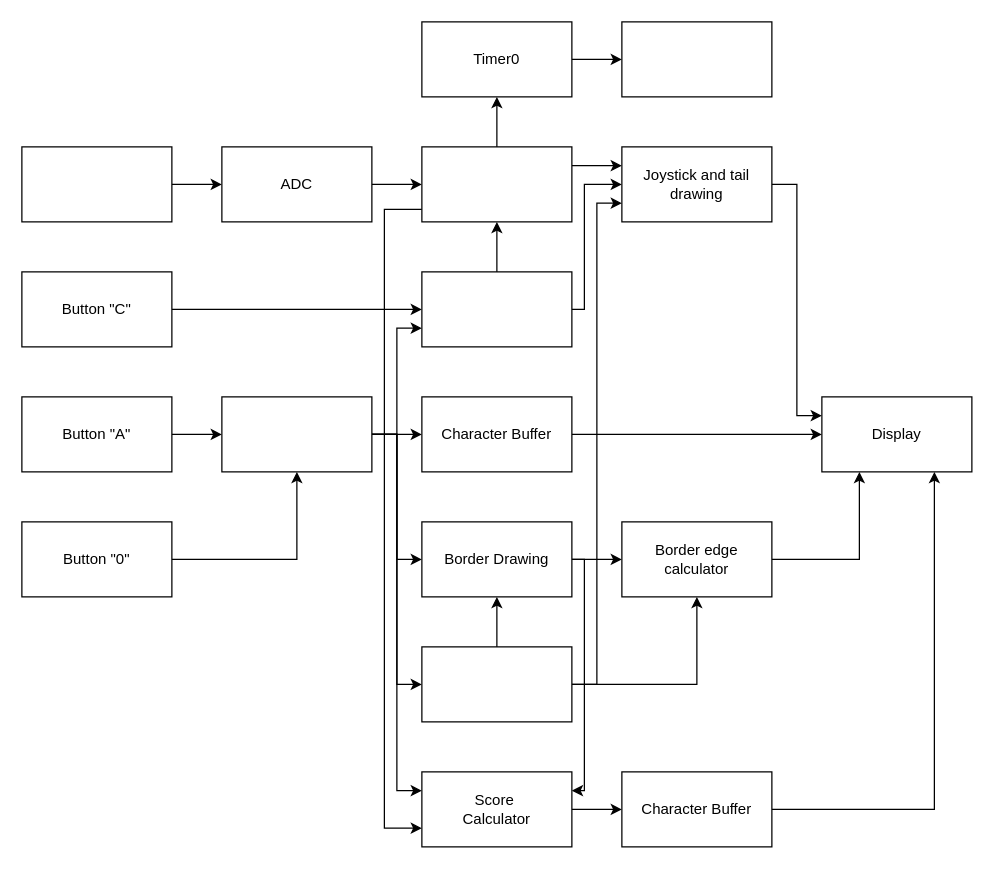
The diagram is 994 pixels wide and 869 high, and some of its shapes have lost their labels. The shapes that lost their labels are listed below. From the top down, each one's centre as x and y in pixels, then its label:
point (696, 59): Buzzer Frequency
point (96, 184): Joystick
point (496, 184): Frequency and jostick position discretisation
point (496, 309): Buzzer enable
point (296, 434): Start/Stop
point (496, 684): Timer1 (screen refresh rate)
